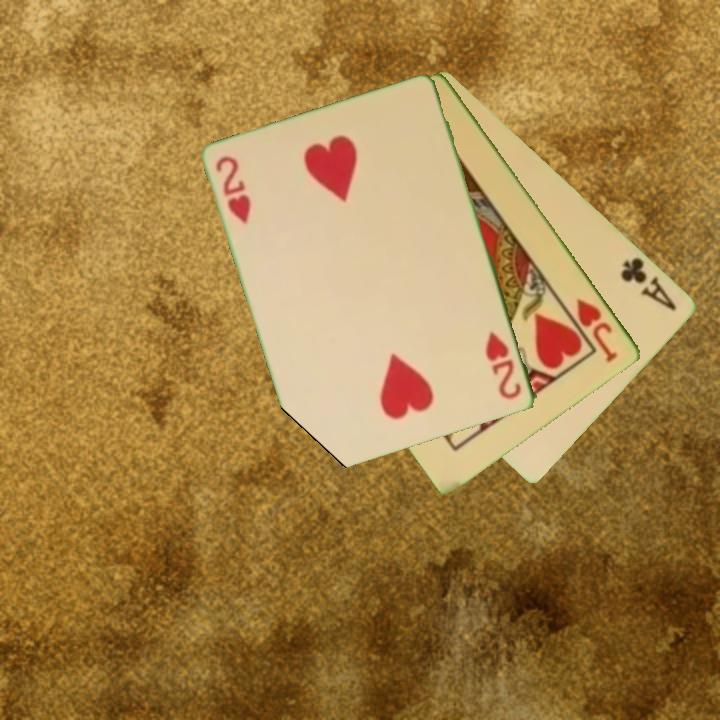2h: (482, 327, 525, 403), (212, 153, 255, 227)
Ac: (617, 254, 680, 314)
Jh: (573, 294, 621, 365)
